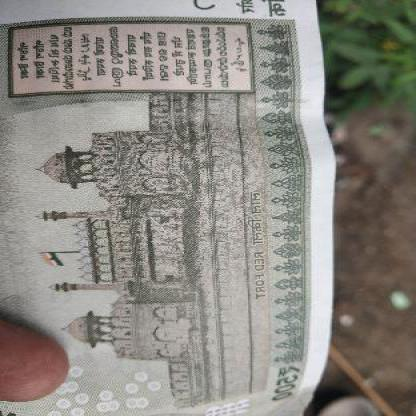New500Back: (0, 1, 328, 415)
